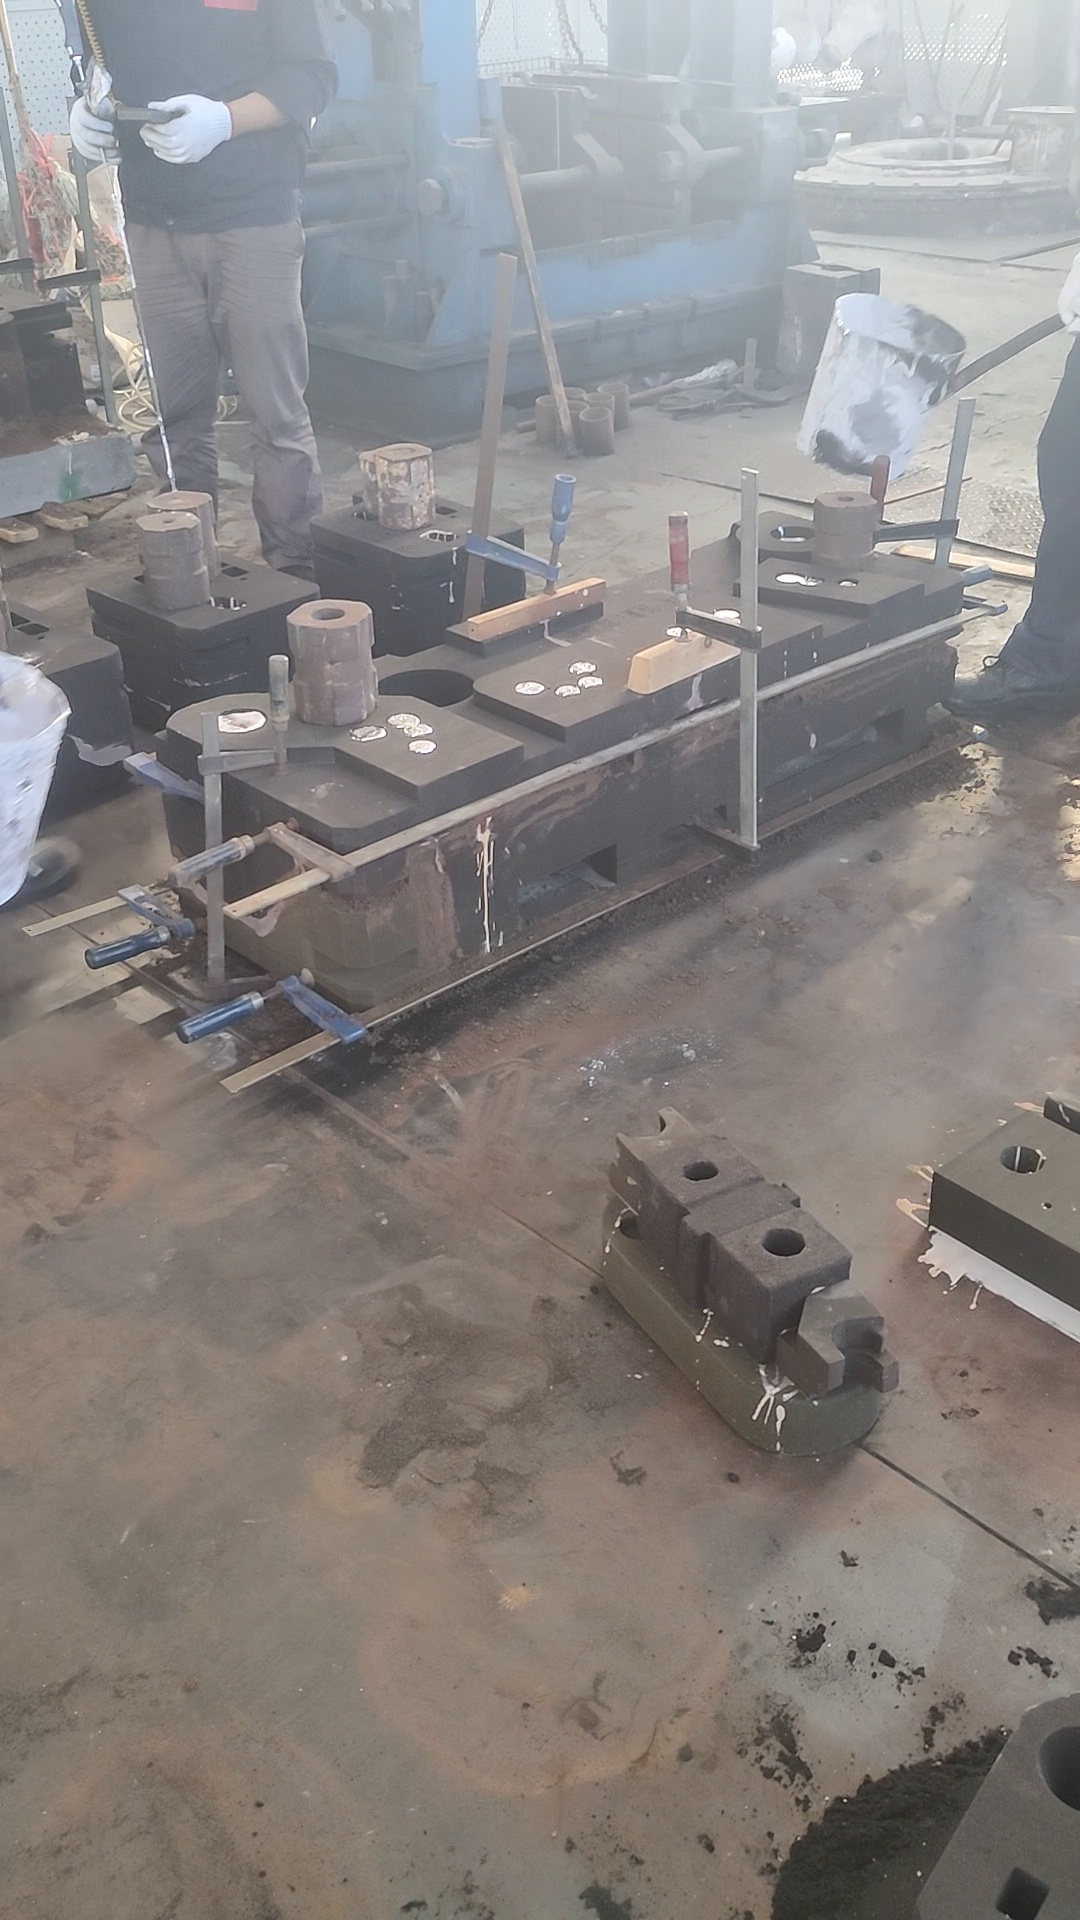pouring hole: (1038, 1721, 1080, 1812), (1000, 1143, 1047, 1174), (214, 707, 266, 733), (770, 525, 816, 541), (164, 526, 199, 545), (378, 469, 411, 487), (578, 406, 612, 421), (555, 385, 585, 398), (535, 394, 564, 407), (559, 400, 589, 411), (597, 381, 629, 392), (583, 392, 615, 401)
